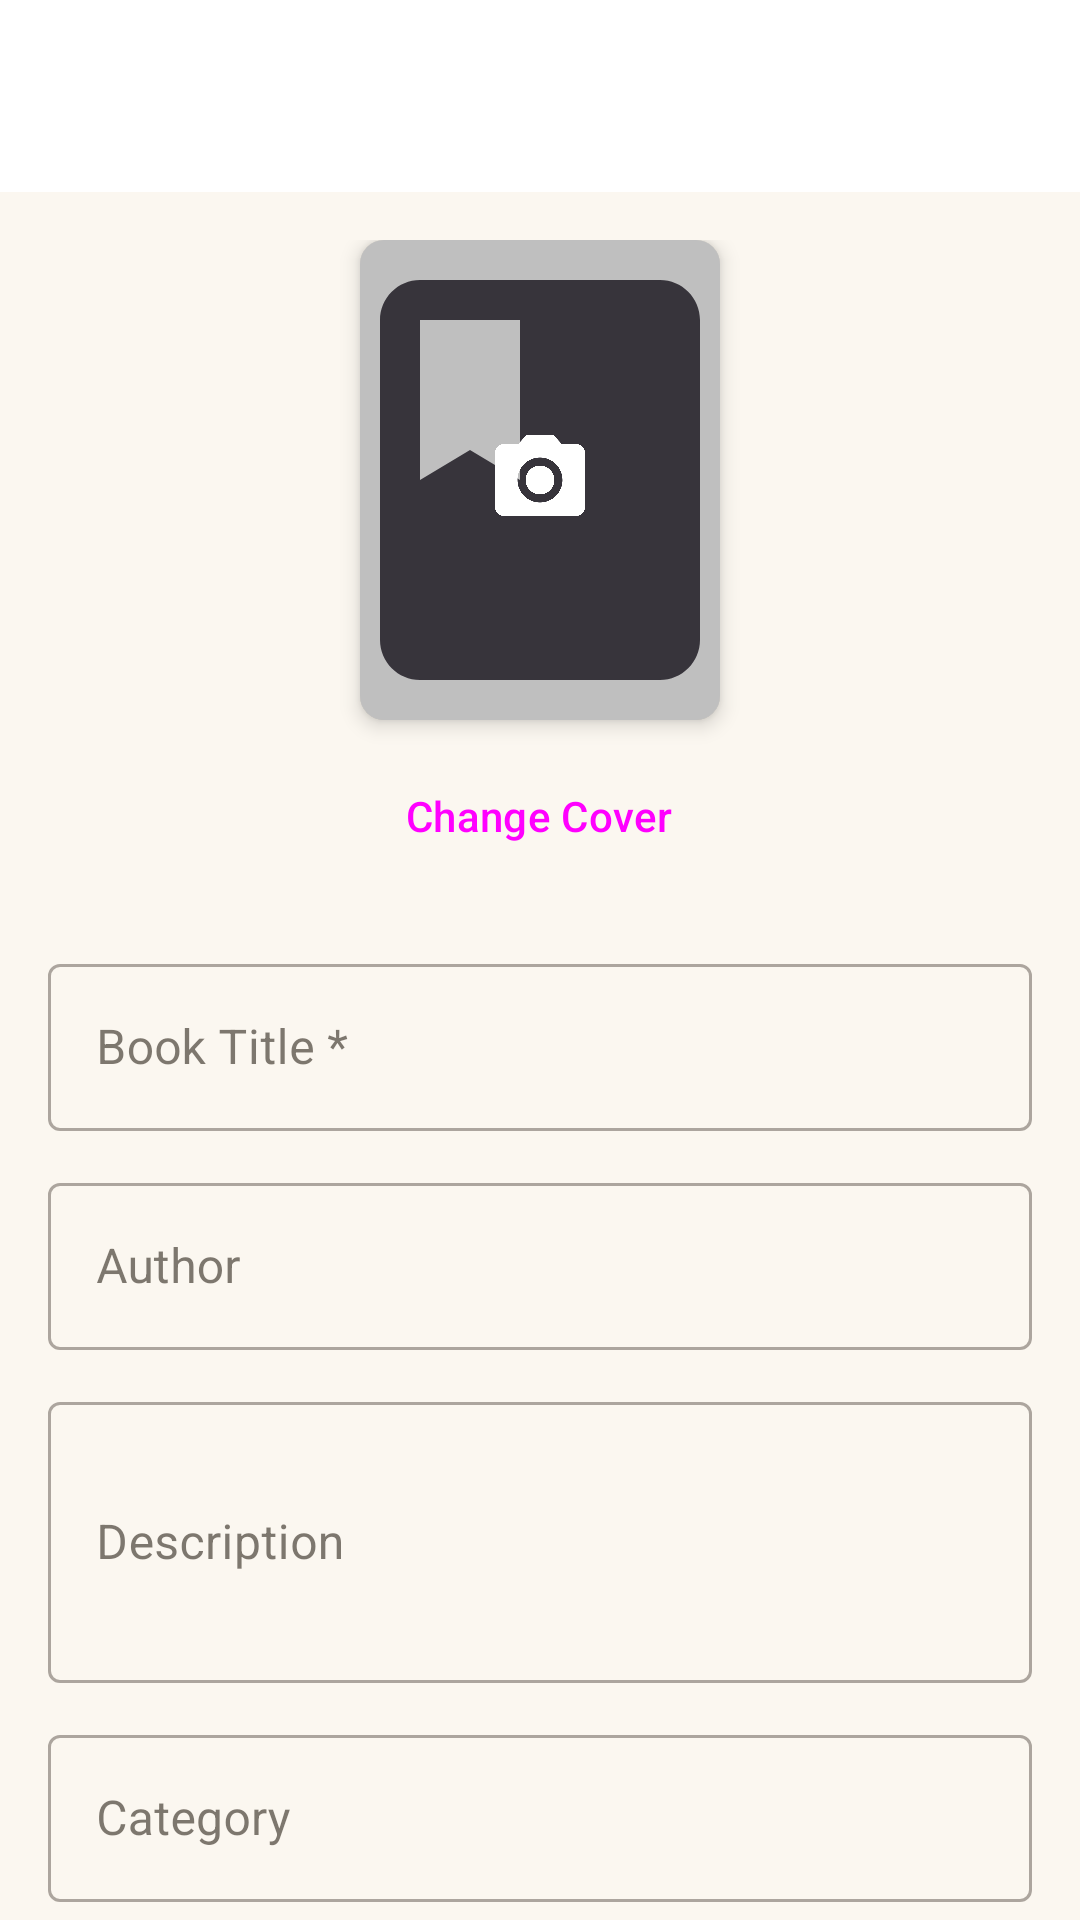

Screen size 1080x1920. Icon name, then its box in pixels as (left=x1, top=y1, right=x2, bottom=y2):
camera: (left=486, top=426, right=585, bottom=516)
